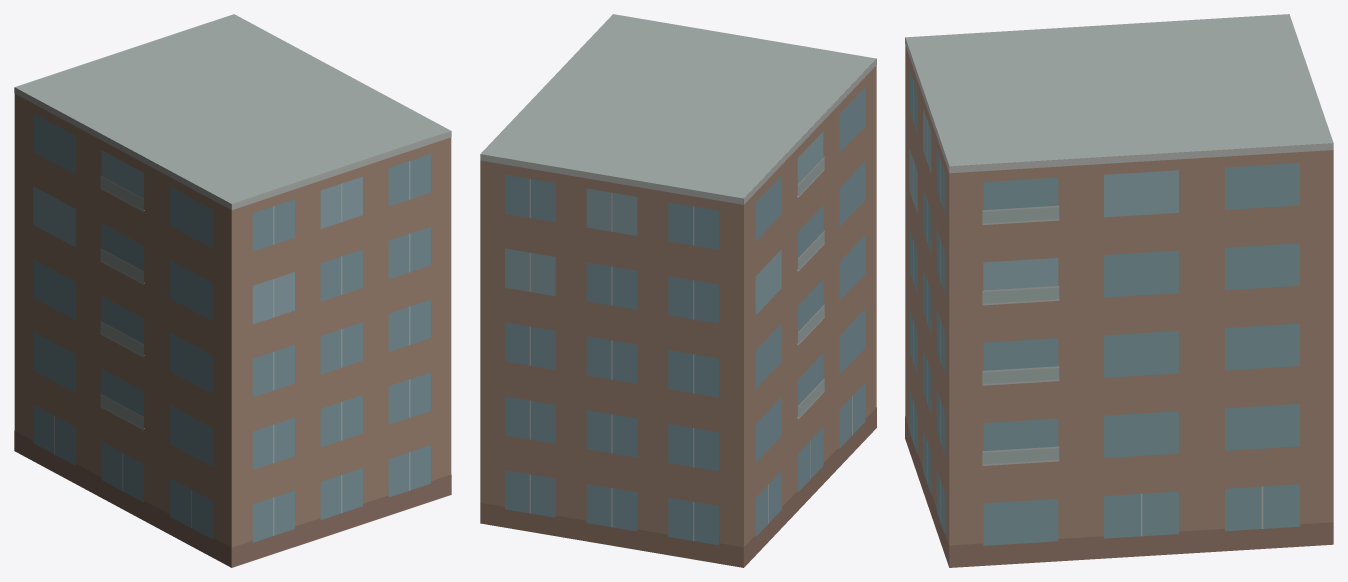
The model's file is survey-upis-32530520.glb.
The picture shows the model from 3 angles, left to right: view 1: azimuth 30°, elevation 25°; view 2: azimuth 150°, elevation 25°; view 3: azimuth 270°, elevation 25°; orthographic projection. The views are drawn at different scales.
Visible parts, largest first — view 1: survey-upis-32530520.tmp; view 2: survey-upis-32530520.tmp; view 3: survey-upis-32530520.tmp.
Boxes of the visible parts, left/top/right/bottom form: survey-upis-32530520.tmp: left=14, top=14, right=451, bottom=567; survey-upis-32530520.tmp: left=480, top=14, right=876, bottom=567; survey-upis-32530520.tmp: left=905, top=14, right=1333, bottom=567.
Size of the model in its own units: 11.57 by 14.2 by 13.74.
